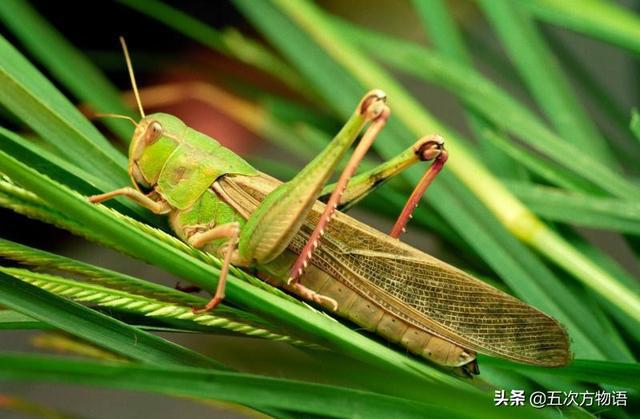huangchong: (111, 100, 550, 373)
